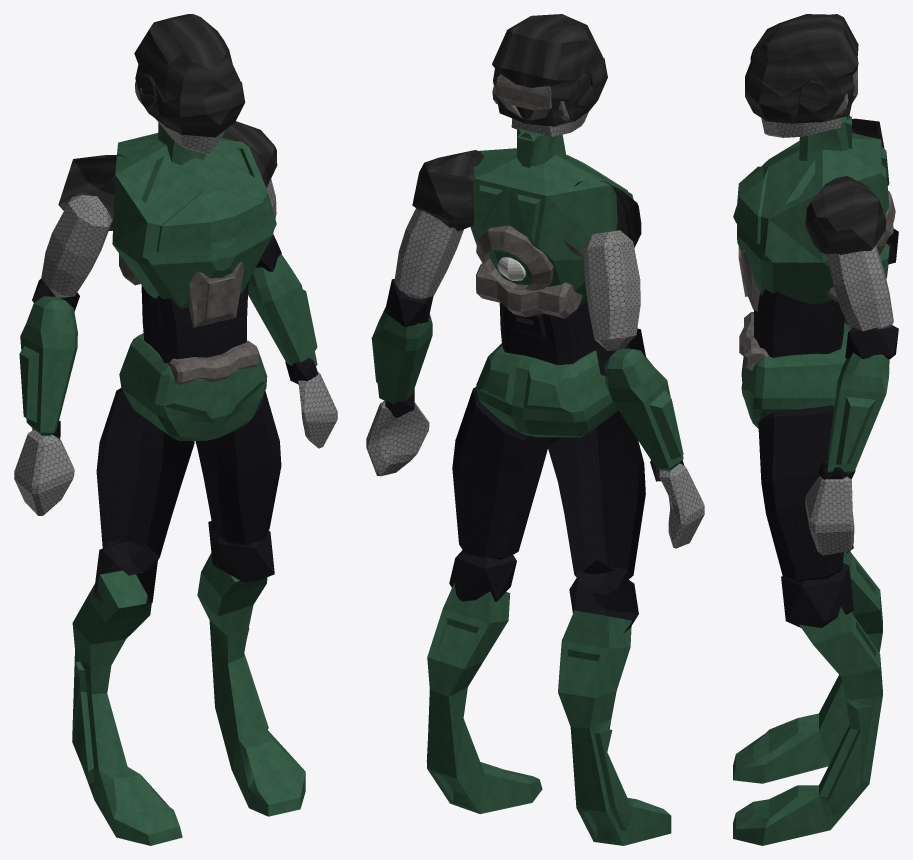
Rendered from player_GREN.obj.
3 views of the same model, side by side, from view 1: azimuth 30°, elevation 25°; view 2: azimuth 150°, elevation 25°; view 3: azimuth 270°, elevation 25° (orthographic). The views are drawn at different scales.
Visible parts, largest first — view 1: Cylinder.001; view 2: Cylinder.001; view 3: Cylinder.001.
Boxes of the visible parts, left/top/right/bottom form: Cylinder.001: left=14, top=14, right=337, bottom=845; Cylinder.001: left=366, top=14, right=704, bottom=845; Cylinder.001: left=733, top=14, right=898, bottom=845.
Bounding box in the file's own units: 4.41 × 10.66 × 2.05.
Materials: 6 (6 with a texture image).
